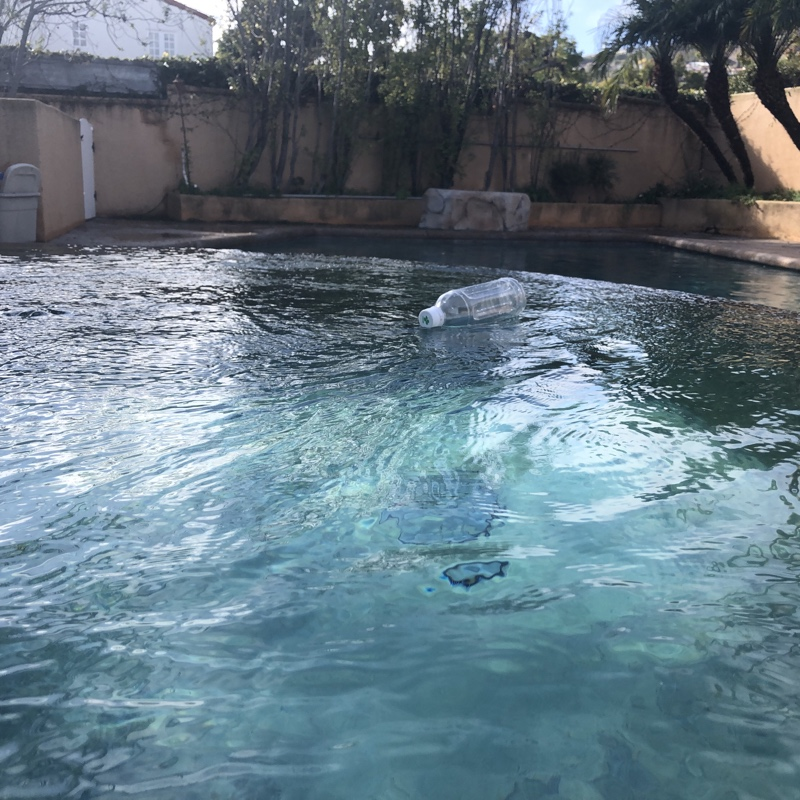Plastic Bottle: (416, 274, 531, 332)
